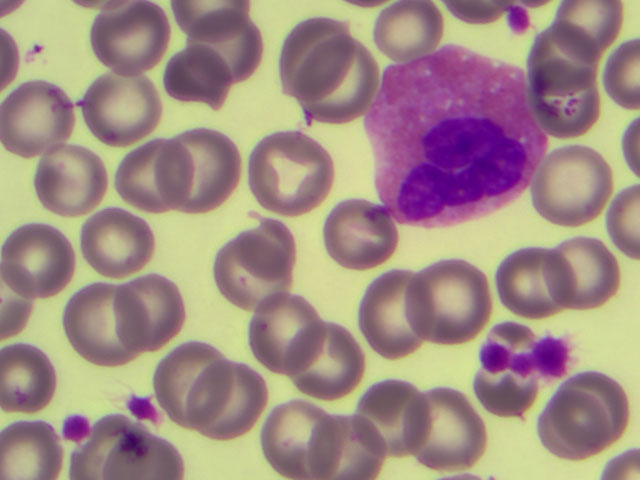Platelets: (479, 336, 570, 374), (57, 409, 93, 447), (125, 388, 162, 422)
RBC: (561, 353, 640, 430), (32, 143, 110, 220), (4, 219, 82, 296), (83, 200, 161, 277), (58, 284, 136, 361), (119, 267, 197, 344), (113, 140, 191, 217), (167, 130, 245, 207), (83, 70, 161, 147), (173, 43, 251, 120), (191, 4, 269, 81), (277, 17, 355, 94), (302, 48, 380, 125), (256, 128, 334, 205), (217, 233, 295, 310), (324, 194, 402, 271), (356, 270, 434, 347), (414, 259, 492, 336), (250, 294, 328, 371), (288, 323, 366, 400), (191, 365, 269, 442), (156, 339, 234, 416), (259, 395, 337, 472), (318, 403, 396, 480), (350, 377, 428, 454), (405, 385, 483, 462), (488, 252, 566, 329), (541, 234, 619, 311), (535, 146, 613, 223), (535, 78, 613, 155), (527, 23, 605, 100), (538, 385, 616, 462), (1, 81, 78, 158), (88, 1, 166, 77), (376, 1, 442, 58), (1, 423, 56, 480), (1, 346, 56, 403)
WBC: (371, 48, 540, 221)
